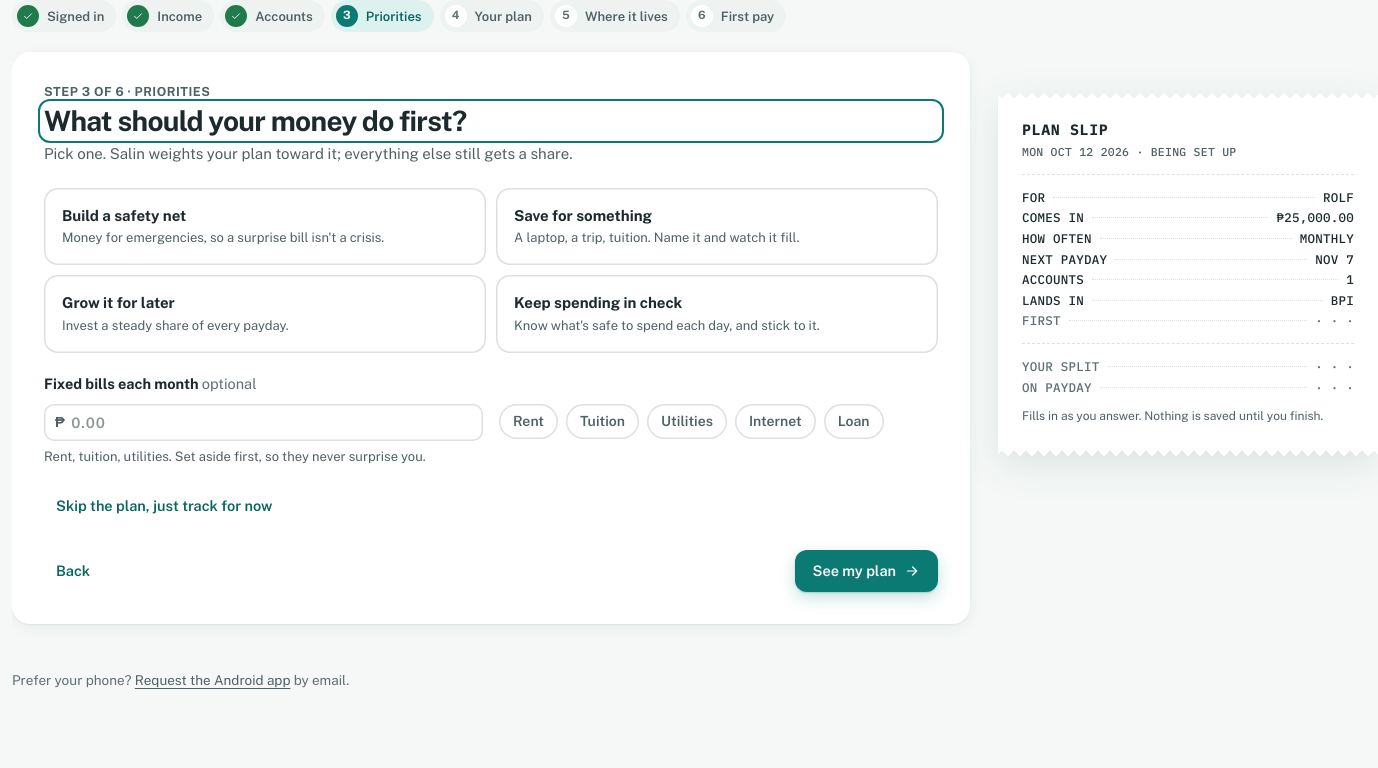
shell (SPEC 7.2) › Just tracking: First pay follows Priorities as step 4 of 4; Back returns to Priorities and undoes the skip
This screenshot has width=1378, height=768.
Click the button "Skip the plan, just track for now" at point(164, 507), box [44,489,284,524]
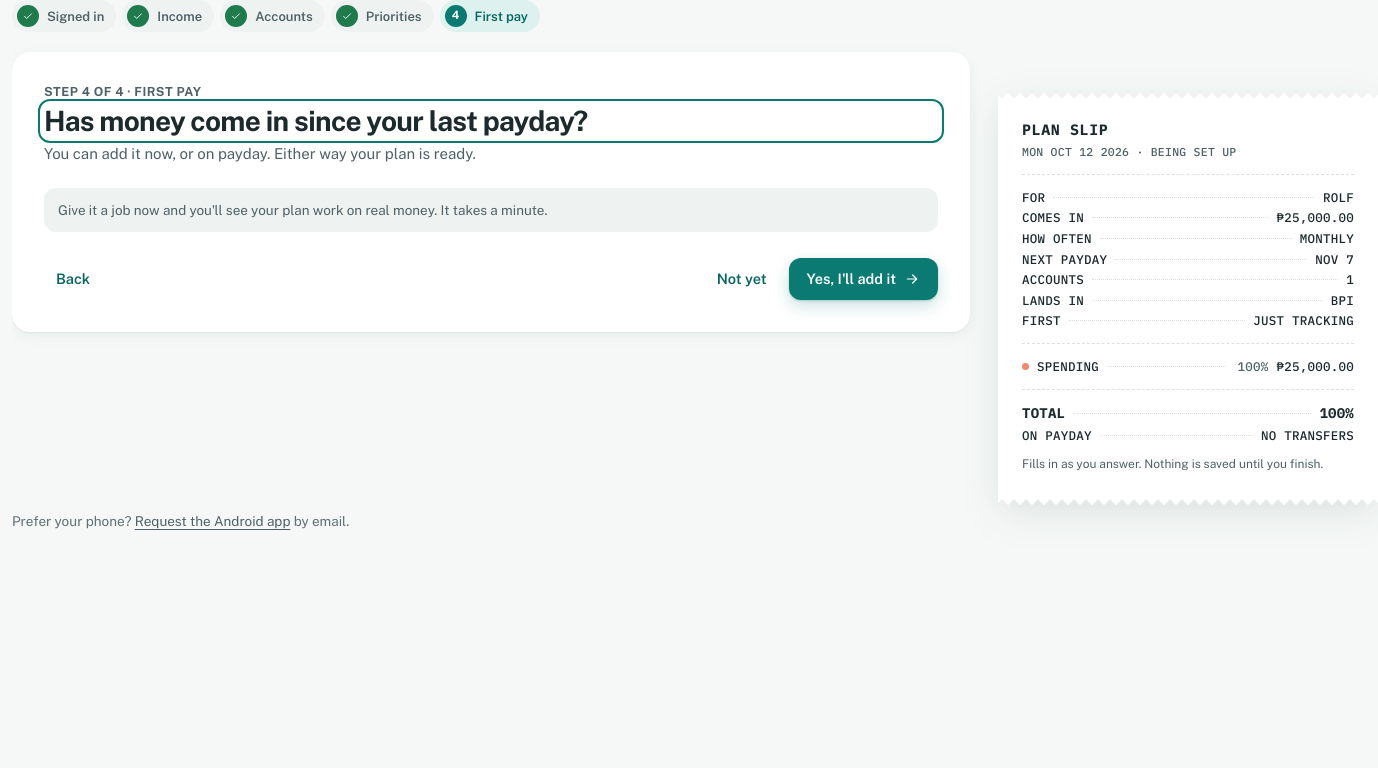
Expected: the text "Step 4 of 4 · First pay" is shown, [44,84,202,99]
Click the button "Back" at point(73, 279), box [44,262,102,296]
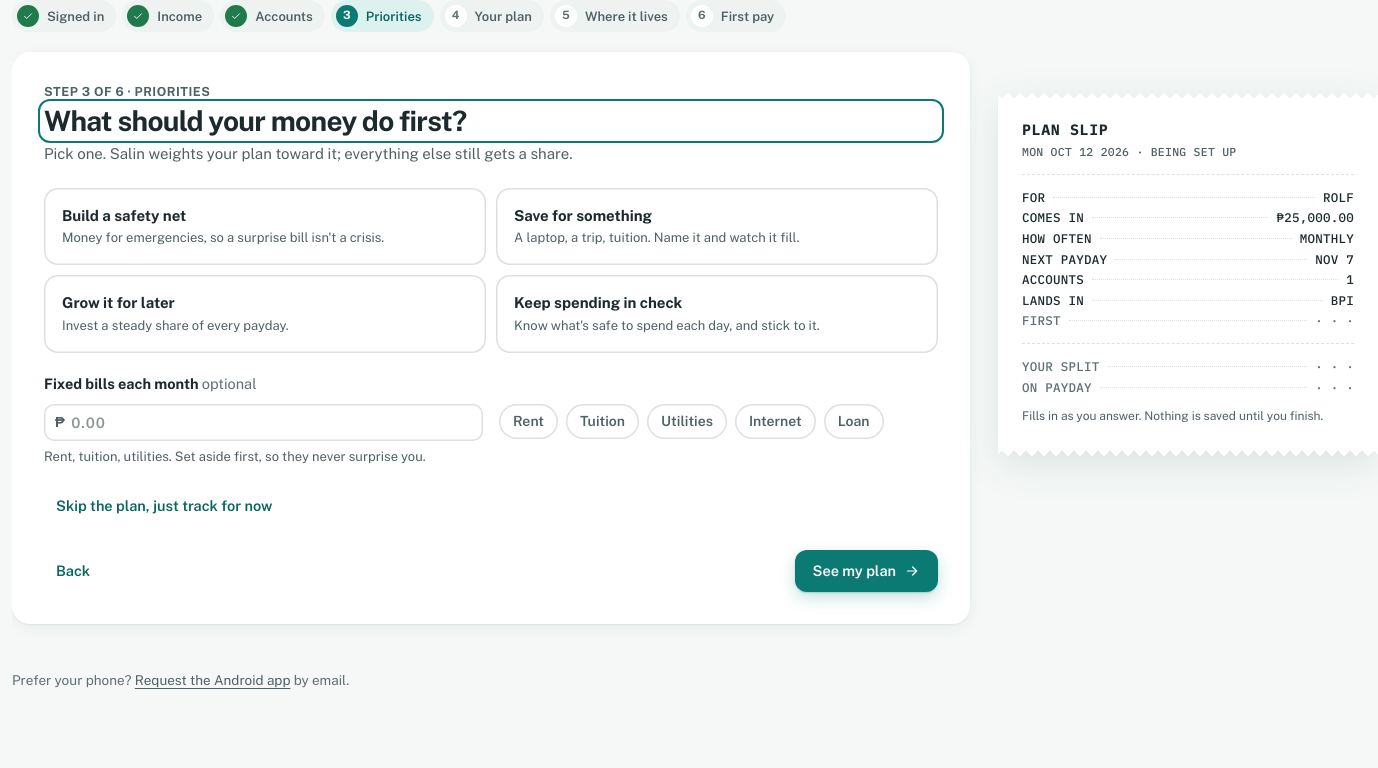
Expected: the text "Step 3 of 6 · Priorities" is shown, [44,84,210,99]
